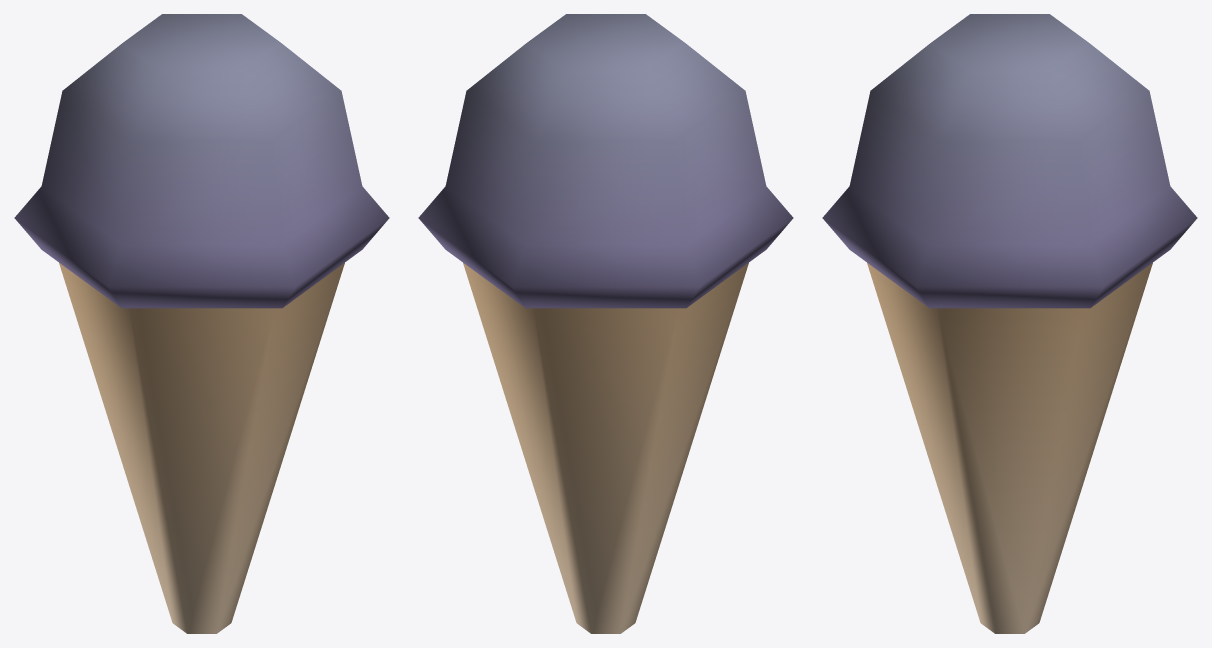
Rendered from ice-cream.glb.
3 views of the same model, side by side, from view 1: azimuth 30°, elevation 25°; view 2: azimuth 150°, elevation 25°; view 3: azimuth 270°, elevation 25° (orthographic).
Visible parts, largest first — view 1: Group, ice-cream; view 2: Group, ice-cream; view 3: Group, ice-cream.
Boxes of the visible parts, x1=… form: Group: x1=14, y1=14, x2=389, y2=308; ice-cream: x1=59, y1=263, x2=344, y2=633; Group: x1=418, y1=14, x2=793, y2=308; ice-cream: x1=463, y1=263, x2=748, y2=633; Group: x1=822, y1=14, x2=1197, y2=308; ice-cream: x1=867, y1=263, x2=1152, y2=633.
Size of the model in its own units: 0.2352 by 0.4632 by 0.2716.
1 material, 1 textured.
